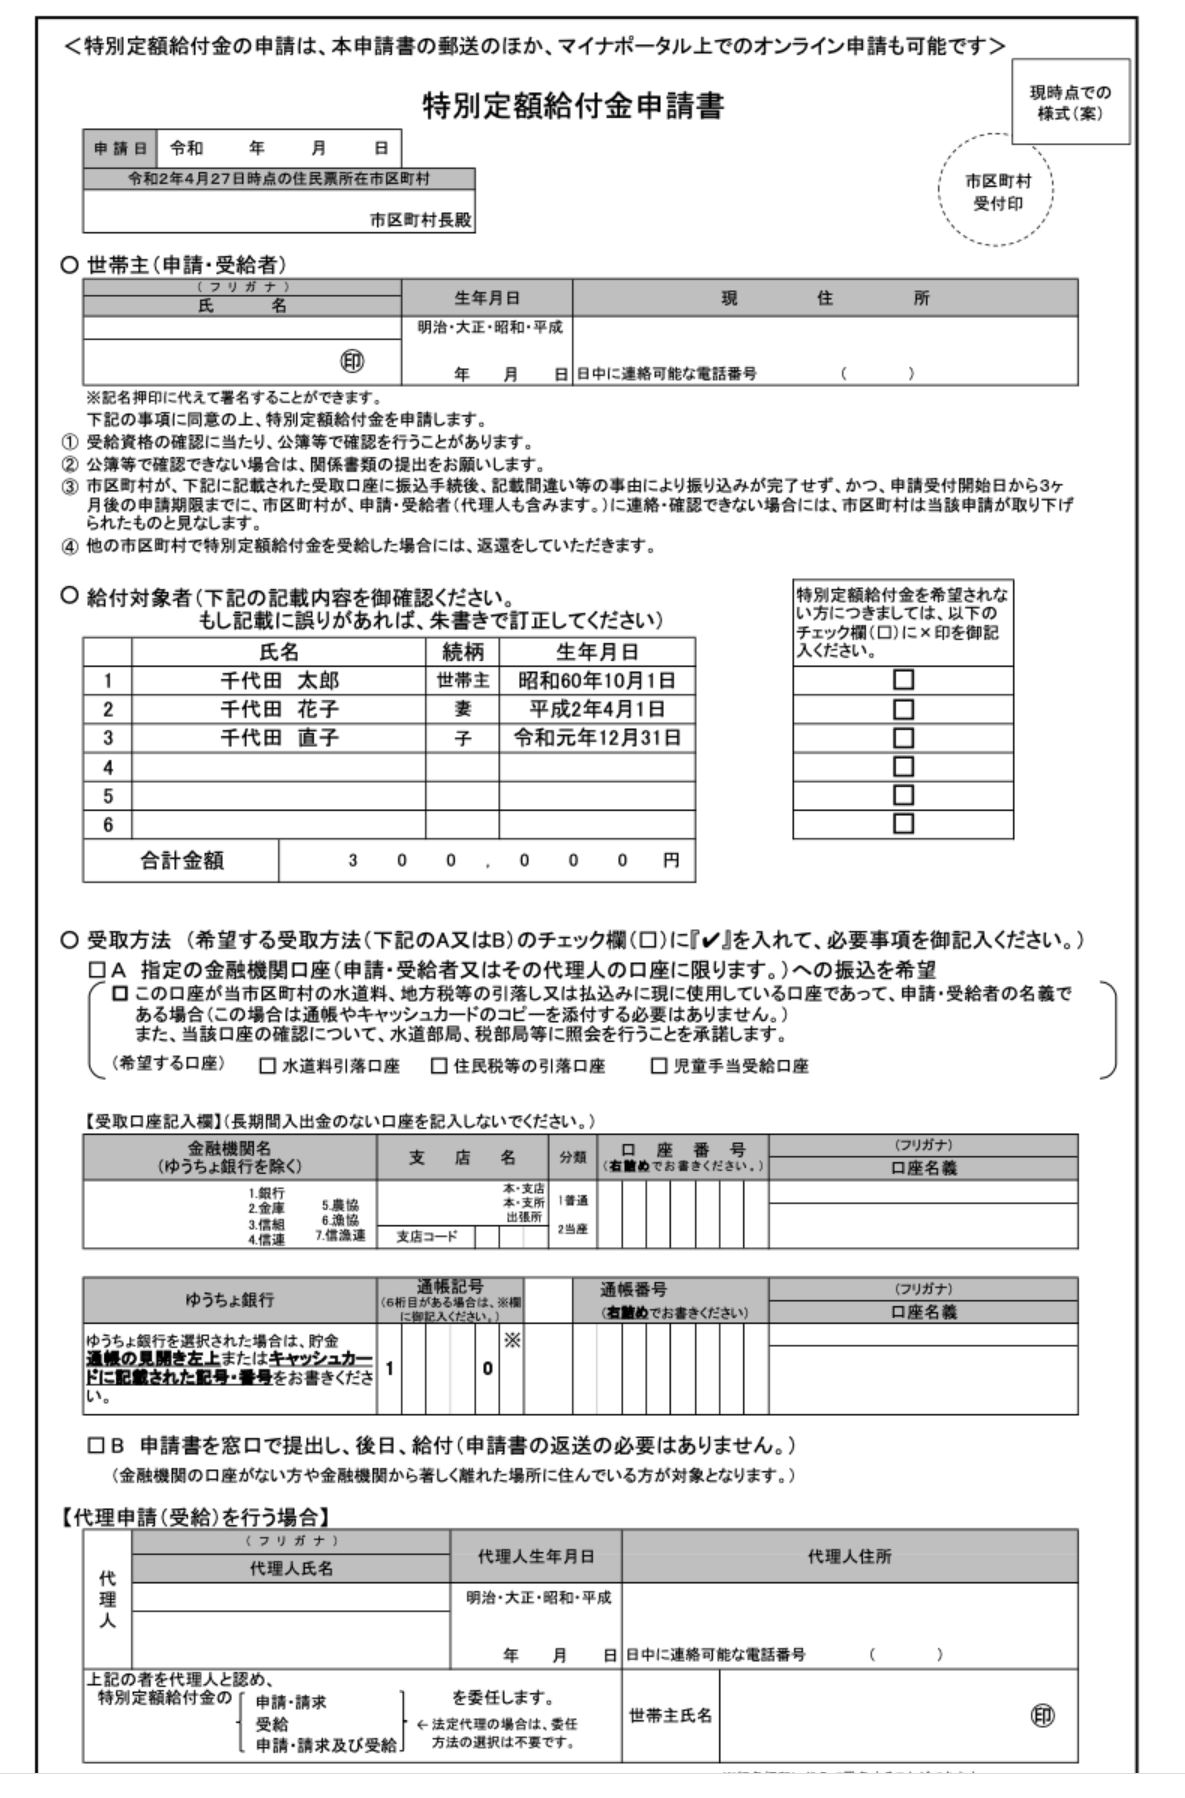box: (890, 662, 918, 695), (890, 781, 918, 810), (891, 809, 918, 840), (891, 695, 918, 723), (890, 754, 918, 780), (891, 727, 917, 754), (83, 1433, 108, 1458), (255, 1055, 279, 1077), (648, 1052, 671, 1076), (110, 982, 130, 1005), (429, 1056, 448, 1077)
